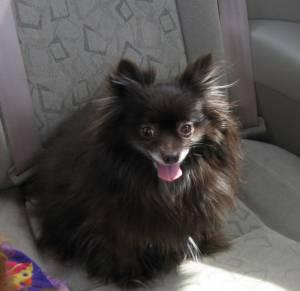dog: (113, 51, 211, 179)
